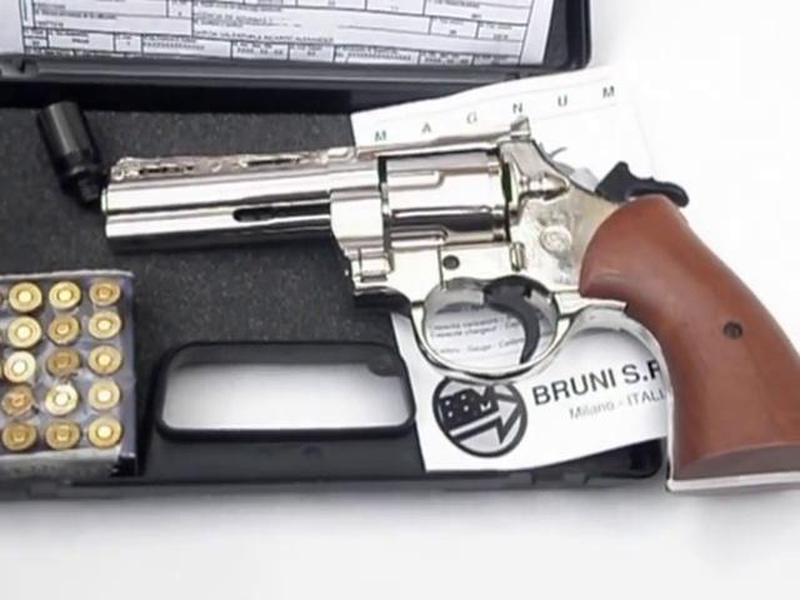Revolver: (96, 139, 715, 420)
